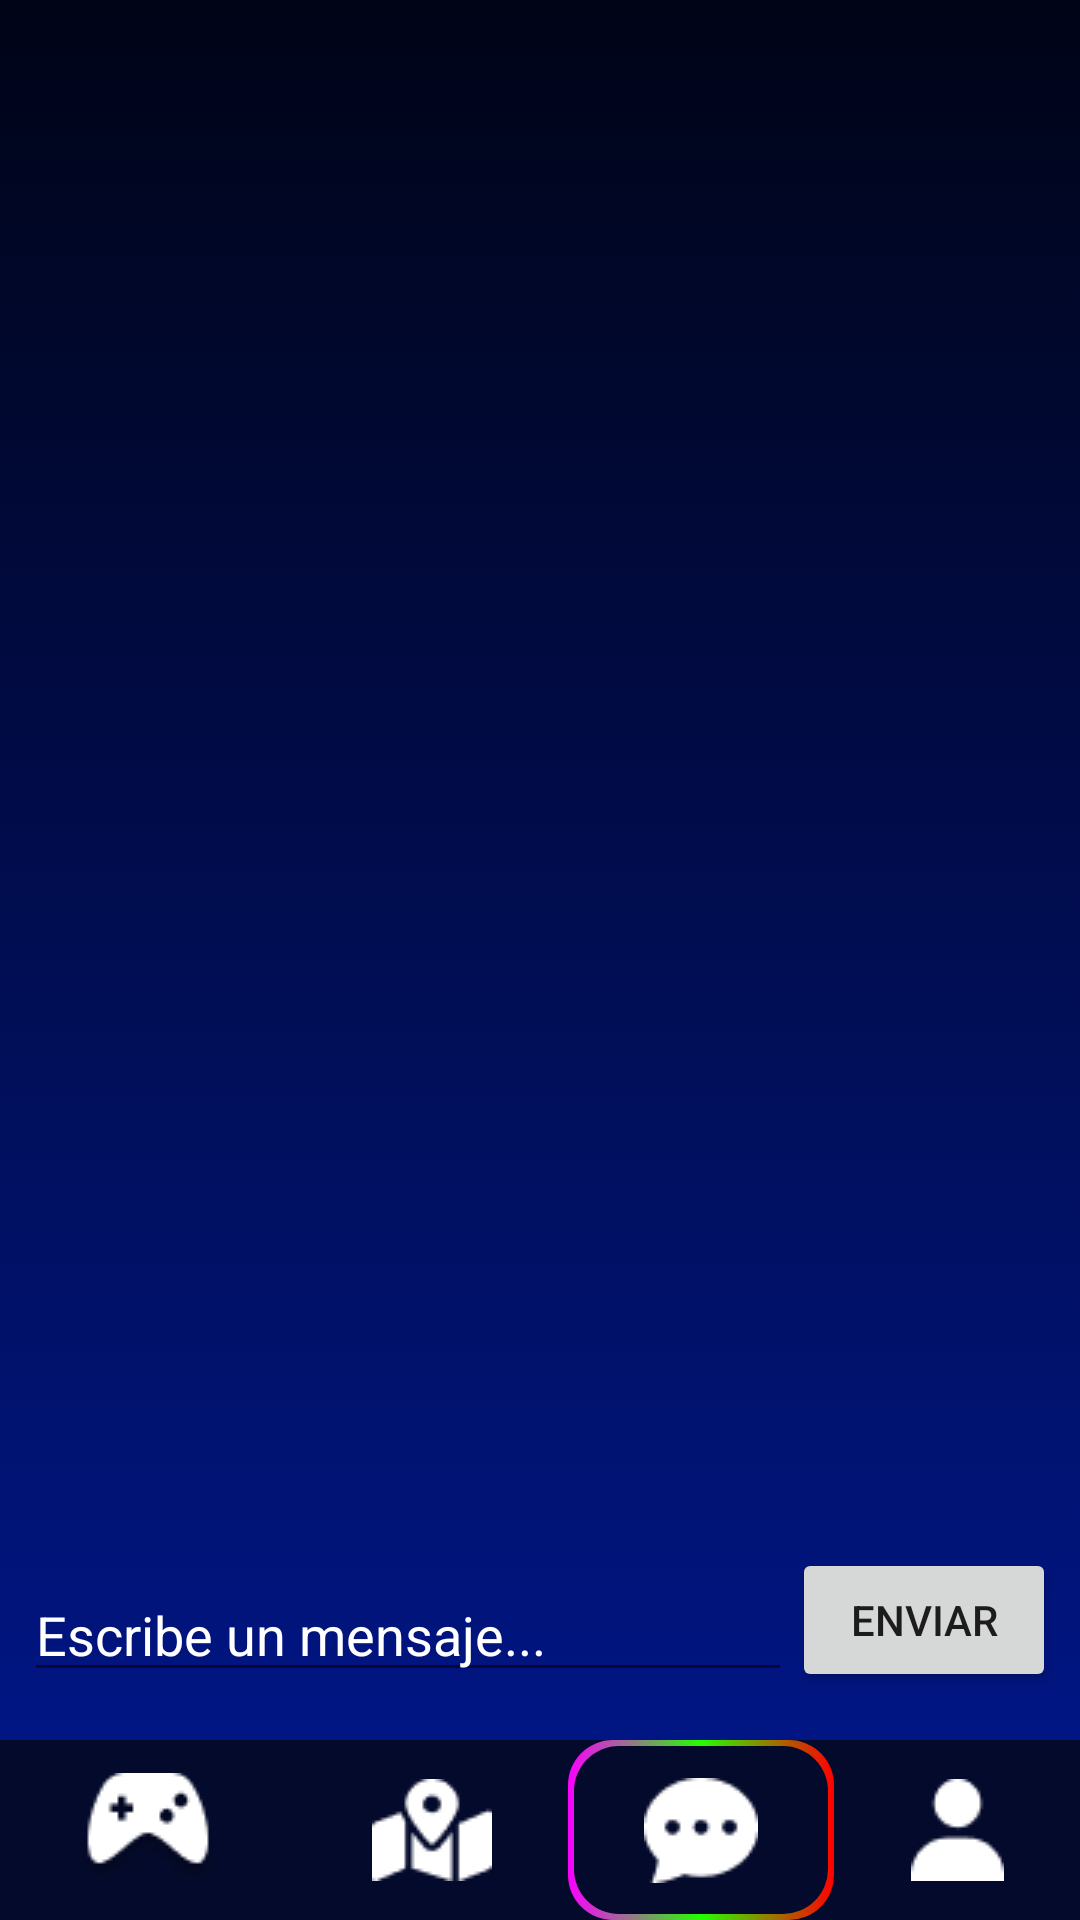

Icons on this 1080 x 1920 Android screen, each with the point to tap as point (x, y):
controlrecto: point (148, 1818)
mapa: point (432, 1830)
